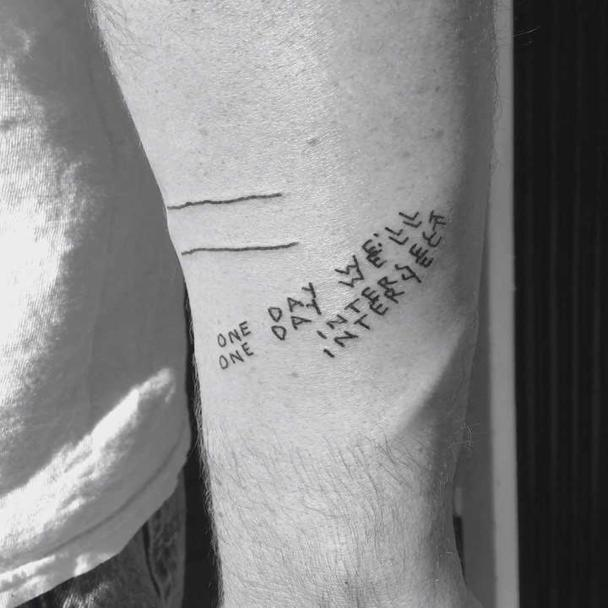tattoos: (164, 190, 448, 370)
